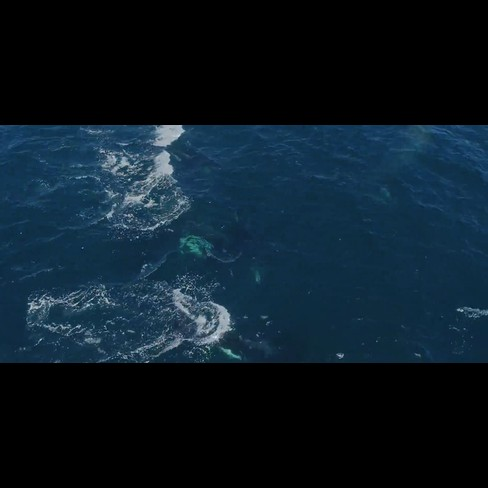orca: (168, 225, 245, 272)
